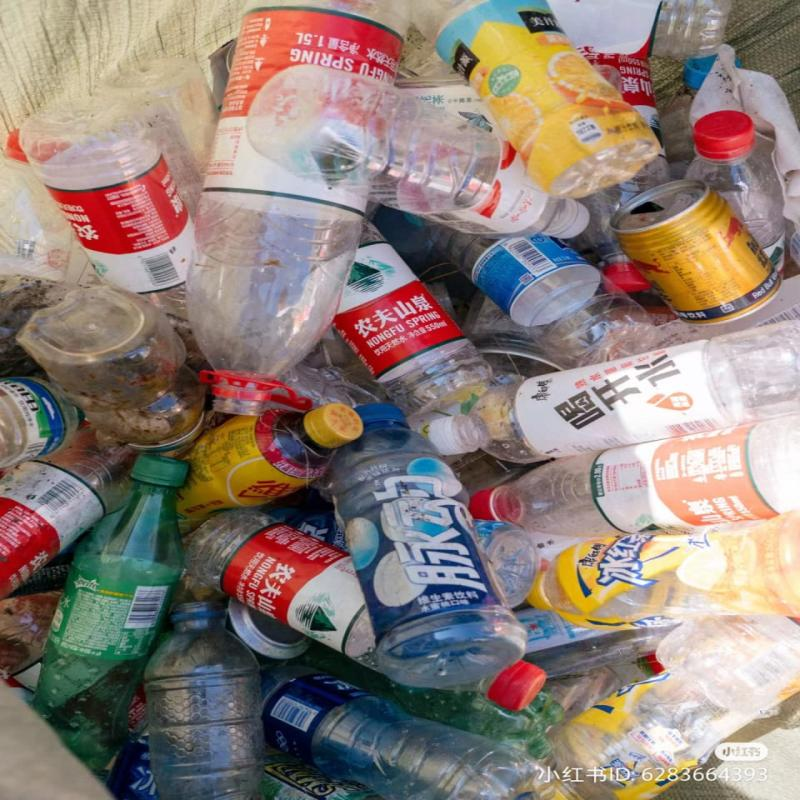botella: (191, 2, 407, 414), (173, 509, 549, 711), (248, 58, 595, 243), (323, 430, 529, 701), (402, 0, 674, 197), (426, 328, 800, 462), (19, 92, 209, 342), (254, 667, 583, 800), (566, 614, 800, 800), (279, 214, 503, 408), (37, 444, 188, 720), (11, 268, 197, 454), (456, 429, 800, 528), (429, 219, 657, 360), (516, 533, 800, 638), (139, 603, 266, 800), (177, 404, 365, 511), (676, 110, 800, 265), (0, 448, 127, 589), (640, 1, 746, 111), (0, 367, 88, 472)
